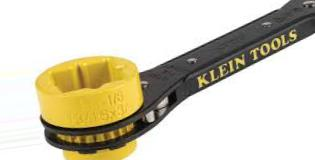wrench: (3, 2, 315, 151)
